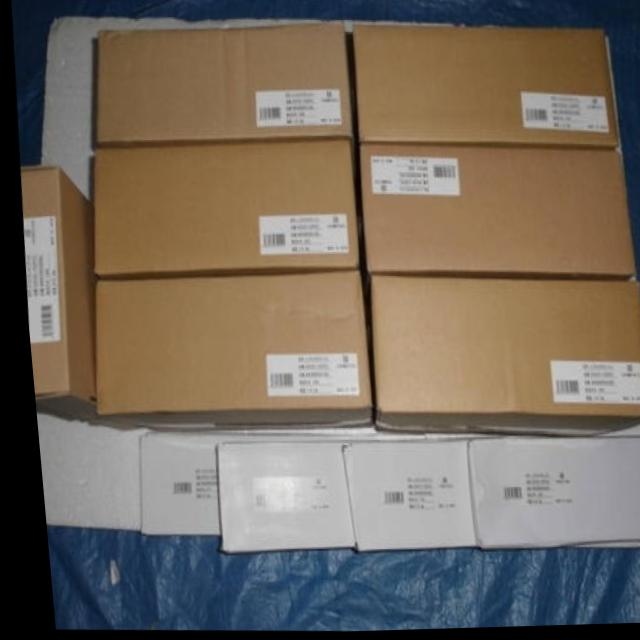box: (367, 277, 640, 437), (90, 275, 364, 430), (355, 148, 630, 281), (88, 143, 353, 274), (88, 21, 350, 148), (349, 31, 618, 150), (18, 167, 99, 429)
